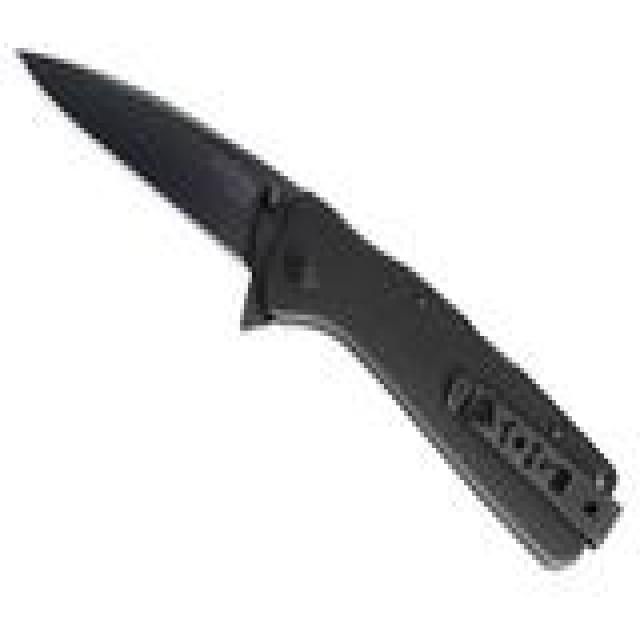Knife: (9, 40, 633, 574)
